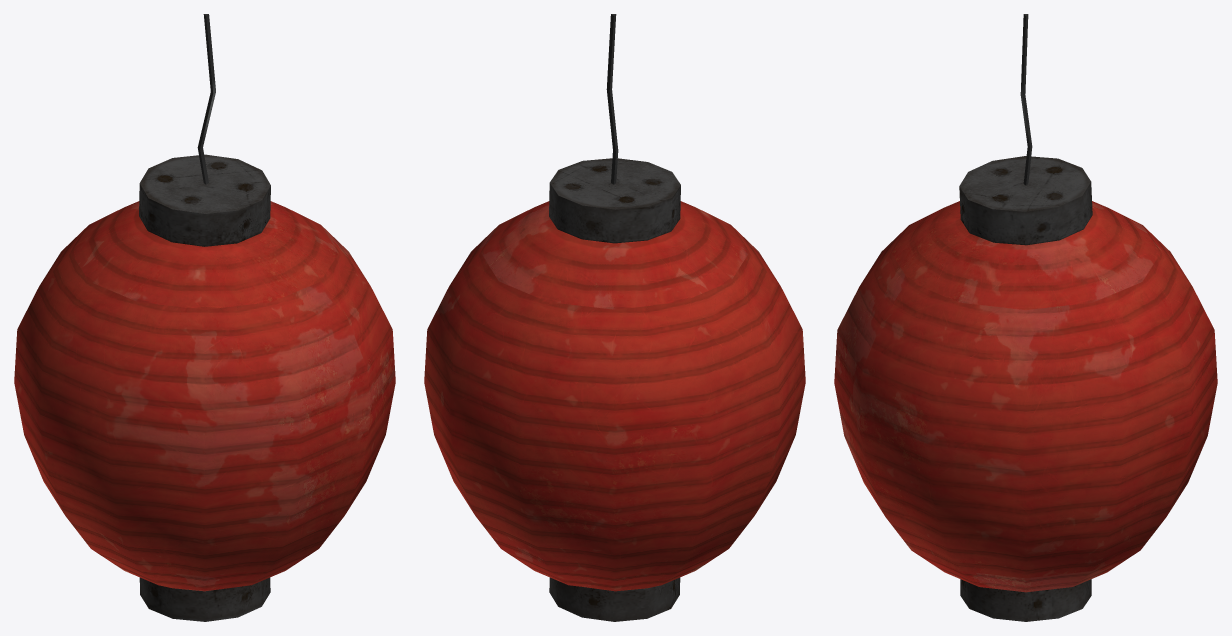
Rendered from Lantern_D.fbx.
The picture shows the model from 3 angles, left to right: view 1: azimuth 30°, elevation 25°; view 2: azimuth 150°, elevation 25°; view 3: azimuth 270°, elevation 25°; orthographic projection.
Visible parts, largest first — view 1: Lantern_D; view 2: Lantern_D; view 3: Lantern_D.
Part boxes in pixels (left/top/right/bottom): Lantern_D: left=14, top=14, right=395, bottom=621; Lantern_D: left=424, top=14, right=805, bottom=621; Lantern_D: left=834, top=14, right=1217, bottom=621.
Bounding box in the file's own units: 40.71 × 68.3 × 40.71.
Materials: 1 (1 with a texture image).
